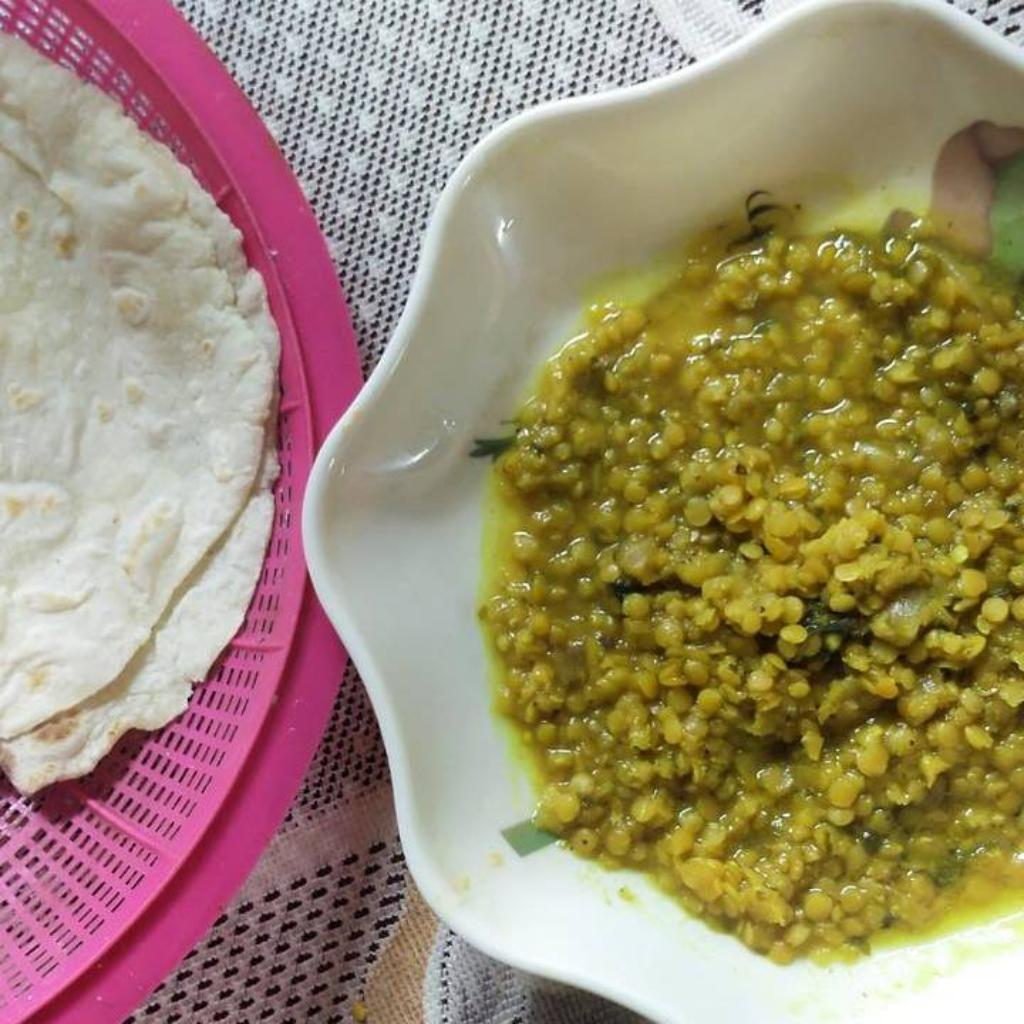daal: (479, 215, 1023, 961)
ruti: (0, 34, 279, 794)
